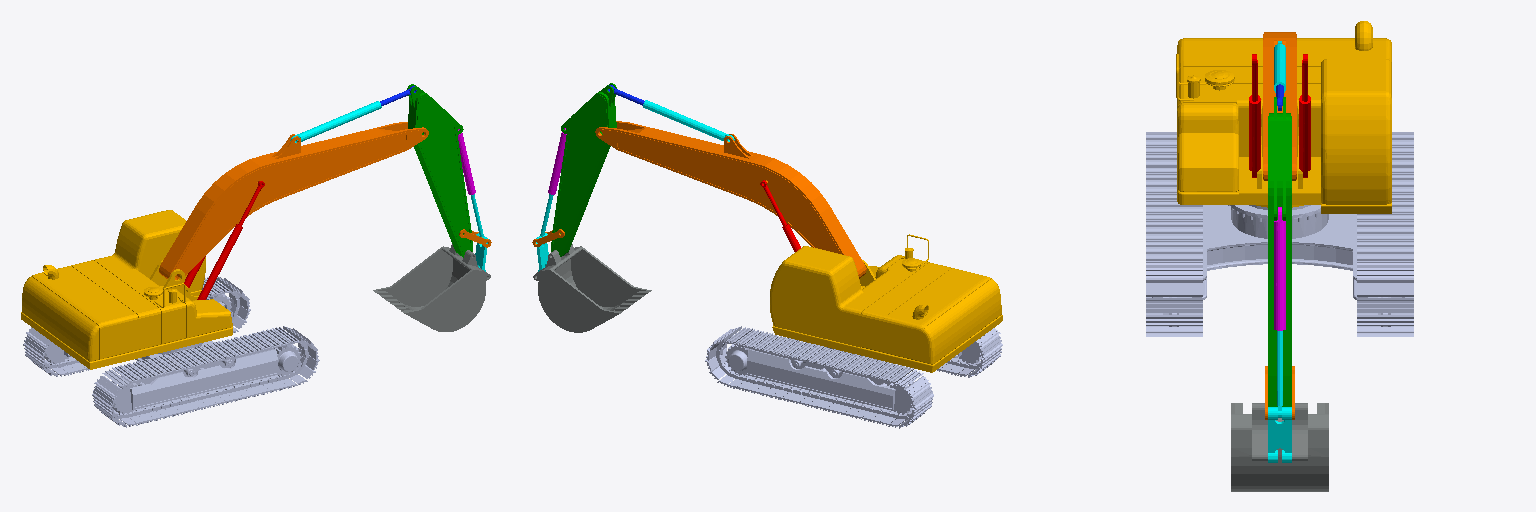
The robot description file, URDF, robot "pudong":
<?xml version="1.0" encoding="utf-8"?>

<robot name="pudong">

  <!--  A base_footprint link and joint for KDL solver  -->
  <link name="base_footprint" />
  <joint name="base_footprint_joint" type="fixed">
     <parent link="base_footprint"/>
     <child link="base_link"/>
   </joint>

  <!-- base_link      -->
  <link
    name="base_link">
    <inertial>
      <origin
        xyz="-0.018171 -0.0017721 0.19446"
        rpy="0 0 0" />
      <mass
        value="2592.7" />
      <inertia
        ixx="1069.7"
        ixy="0.085575"
        ixz="-2.7007"
        iyy="689.73"
        iyz="0.014558"
        izz="1627.6" />
    </inertial>
    <visual>
      <origin
        xyz="0 0 0"
        rpy="0 0 0" />
      <geometry>
        <mesh
          filename="package://pudong/meshes/base_link.STL" />
      </geometry>
      <material
        name="">
        <color
          rgba="0.79216 0.81961 0.93333 1" />
      </material>
    </visual>
    <collision>
      <origin
        xyz="0 0 0"
        rpy="0 0 0" />
      <geometry>
        <mesh
          filename="package://pudong/meshes/base_link.STL" />
      </geometry>
    </collision>
  </link>

  <!--  cheshen  -->
  <link
    name="cheshen">
    <inertial>
      <origin
        xyz="-0.83549 0.21412 0.58331"
        rpy="0 0 0" />
      <mass
        value="7793.2" />
      <inertia
        ixx="5729.6"
        ixy="-1496.5"
        ixz="-549.49"
        iyy="8160.3"
        iyz="-525.9"
        izz="11992" />
    </inertial>
    <visual>
      <origin
        xyz="0 0 0"
        rpy="0 0 0" />
      <geometry>
        <mesh
          filename="package://pudong/meshes/cheshen.STL" />
      </geometry>
      <material
        name="">
        <color
          rgba="1 0.74902 0 1" />
      </material>
    </visual>
    <collision>
      <origin
        xyz="0 0 0"
        rpy="0 0 0" />
      <geometry>
        <mesh
          filename="package://pudong/meshes/cheshen.STL" />
      </geometry>
    </collision>
  </link>

  <!--  joint: base_to_cheshen  -->
  <joint
    name="base_to_cheshen"
    type="continuous">
    <origin
      xyz="0 0 0.72"
      rpy="0 0 0" />
    <parent
      link="base_link" />
    <child
      link="cheshen" />
    <axis
      xyz="0 0 -1" />
  </joint>

  <!--  pjjq03      -->
  <link name="pjjq03">
    <inertial>
      <origin
        xyz="2.2911 3.7748E-15 1.2825"
        rpy="0 0 0" />
      <mass
        value="1440.8" />
      <inertia
        ixx="321.25"
        ixy="5.2749E-13"
        ixz="-661.98"
        iyy="3009.3"
        iyz="1.7997E-13"
        izz="2727.5" />
    </inertial>
    <visual>
      <origin
        xyz="0 0 0"
        rpy="0 0 0" />
      <geometry>
        <mesh
          filename="package://pudong/meshes/pjjq03.STL" />
      </geometry>
      <material
        name="">
        <color
          rgba="1 0.49804 0 1" />
      </material>
    </visual>
    <collision>
      <origin
        xyz="0 0 0"
        rpy="0 0 0" />
      <geometry>
        <mesh
          filename="package://pudong/meshes/pjjq03.STL" />
      </geometry>
    </collision>
  </link>

  <!--   joint: cheshen_to_03     -->
  <joint
    name="cheshen_to_03"
    type="revolute">
    <origin
      xyz="-0.009 0 1.0372"
      rpy="0 0 0" />
    <parent
      link="cheshen" />
    <child
      link="pjjq03" />
    <axis
      xyz="0 1 0" />
    <limit
      lower="-0.9"
      upper="0.3"
      effort="0"
      velocity="1" />
  </joint>

  <!-- link  yg1220_1_1   -->
  <link
    name="yg1220_1_1">
    <inertial>
      <origin
        xyz="6.3838E-15 6.6613E-15 0.76602"
        rpy="0 0 0" />
      <mass
        value="12.766" />
      <inertia
        ixx="3.6006"
        ixy="-2.0103E-17"
        ixz="8.5001E-16"
        iyy="3.6026"
        iyz="1.1691E-16"
        izz="0.051461" />
    </inertial>
    <visual>
      <origin
        xyz="0 0 0"
        rpy="0 0 0" />
      <geometry>
        <mesh
          filename="package://pudong/meshes/yg1220_1_1.STL" />
      </geometry>
      <material
        name="">
        <color
          rgba="1 0 0 1" />
      </material>
    </visual>
    <collision>
      <origin
        xyz="0 0 0"
        rpy="0 0 0" />
      <geometry>
        <mesh
          filename="package://pudong/meshes/yg1220_1_1.STL" />
      </geometry>
    </collision>
  </link>

  <!--  joint: cheshen_to_1220_1  -->
  <joint
    name="cheshen_to_1220_1"
    type="revolute">
    <origin
      xyz="0.461 0.31 0.44"
      rpy="0 0.55538 0" />
    <parent
      link="cheshen" />
    <child
      link="yg1220_1_1" />
    <axis
      xyz="0 1 0" />
    <limit
      lower="-0.35"
      upper="0.5"
      effort="0"
      velocity="1" />
  </joint>

  <!--    yg1220_1_2  -->
  <link
    name="yg1220_1_2">
    <inertial>
      <origin
        xyz="5.8287E-15 3.1086E-15 0.75378"
        rpy="0 0 0" />
      <mass
        value="8.7504" />
      <inertia
        ixx="2.1109"
        ixy="6.2989E-19"
        ixz="4.0658E-16"
        iyy="2.1113"
        iyz="6.698E-15"
        izz="0.0084603" />
    </inertial>
    <visual>
      <origin
        xyz="0 0 0"
        rpy="0 0 0" />
      <geometry>
        <mesh
          filename="package://pudong/meshes/yg1220_1_2.STL" />
      </geometry>
      <material
        name="">
        <color
          rgba="1 0 0 1" />
      </material>
    </visual>
    <collision>
      <origin
        xyz="0 0 0"
        rpy="0 0 0" />
      <geometry>
        <mesh
          filename="package://pudong/meshes/yg1220_1_2.STL" />
      </geometry>
    </collision>
  </link>

  <!--  joint: 1220_1_to_03   
  <joint
    name="1220_1_to_03"
    type="revolute">
    <origin
      xyz="1.8012 0.31 1.548"
      rpy="0 0 0" />
    <parent
      link="pjjq03" />
    <child
      link="yg1220_1_2" />
    <axis
      xyz="0 1 0" />
    <limit
      lower="-0.35"
      upper="0.5"
      effort="0"
      velocity="1" />
  </joint>-->

  <!--  joint: 1220_1  -->
  <joint
    name="1220_1"
    type="prismatic">
    <origin
      xyz="0 0 0.95471"
      rpy="0 0 0" />
    <parent
      link="yg1220_1_1" />
    <child
      link="yg1220_1_2" />
    <axis
      xyz="0 0 -1" />
    <limit
      lower="-0.42"
      upper="0.8"
      effort="0"
      velocity="1" />
  </joint>

  <!--    yg1220_2_1  -->
  <link
    name="yg1220_2_1">
    <inertial>
      <origin
        xyz="4.885E-15 4.6629E-15 0.76602"
        rpy="0 0 0" />
      <mass
        value="12.766" />
      <inertia
        ixx="3.6006"
        ixy="-2.0289E-17"
        ixz="7.1818E-16"
        iyy="3.6026"
        iyz="2.2196E-15"
        izz="0.051461" />
    </inertial>
    <visual>
      <origin
        xyz="0 0 0"
        rpy="0 0 0" />
      <geometry>
        <mesh
          filename="package://pudong/meshes/yg1220_2_1.STL" />
      </geometry>
      <material
        name="">
        <color
          rgba="1 0 0 1" />
      </material>
    </visual>
    <collision>
      <origin
        xyz="0 0 0"
        rpy="0 0 0" />
      <geometry>
        <mesh
          filename="package://pudong/meshes/yg1220_2_1.STL" />
      </geometry>
    </collision>
  </link>

  <!-- joint: cheshen_to_1220_2  -->
  <joint
    name="cheshen_to_1220_2"
    type="revolute">
    <origin
      xyz="0.461 -0.31 0.44"
      rpy="0 0.55538 0" />
    <parent
      link="cheshen" />
    <child
      link="yg1220_2_1" />
    <axis
      xyz="0 1 0" />
    <limit
      lower="-0.35"
      upper="0.5"
      effort="0"
      velocity="1" />
    <mimic
      joint="cheshen_to_1220_1"
      multiplier="1"
      offset="0" />
  </joint>

  <!--  yg1220_2_2    -->
  <link
    name="yg1220_2_2">
    <inertial>
      <origin
        xyz="4.2744E-15 3.3307E-15 0.75378"
        rpy="0 0 0" />
      <mass
        value="8.7504" />
      <inertia
        ixx="2.1109"
        ixy="-5.507E-18"
        ixz="-1.5266E-16"
        iyy="2.1113"
        iyz="6.6736E-15"
        izz="0.0084603" />
    </inertial>
    <visual>
      <origin
        xyz="0 0 0"
        rpy="0 0 0" />
      <geometry>
        <mesh
          filename="package://pudong/meshes/yg1220_2_2.STL" />
      </geometry>
      <material
        name="">
        <color
          rgba="1 0 0 1" />
      </material>
    </visual>
    <collision>
      <origin
        xyz="0 0 0"
        rpy="0 0 0" />
      <geometry>
        <mesh
          filename="package://pudong/meshes/yg1220_2_2.STL" />
      </geometry>
    </collision>
  </link>

  <!--  joint: 1220_2   -->
  <joint
    name="1220_2"
    type="prismatic">
    <origin
      xyz="0 0 0.95471"
      rpy="0 0 0" />
    <parent
      link="yg1220_2_1" />
    <child
      link="yg1220_2_2" />
    <axis
      xyz="0 0 -1" />
    <limit
      lower="-0.42"
      upper="0.8"
      effort="0"
      velocity="1" />
    <mimic
      joint="1220_1"
      multiplier="1"
      offset="0" />
  </joint>

  <!--    yg1480     -->
  <link
    name="yg1480">
    <inertial>
      <origin
        xyz="2.2204E-15 1.0436E-14 0.88447"
        rpy="0 0 0" />
      <mass
        value="15.576" />
      <inertia
        ixx="5.7795"
        ixy="3.8423E-17"
        ixz="3.773E-16"
        iyy="5.782"
        iyz="-3.0915E-17"
        izz="0.073091" />
    </inertial>
    <visual>
      <origin
        xyz="0 0 0"
        rpy="0 0 0" />
      <geometry>
        <mesh
          filename="package://pudong/meshes/yg1480.STL" />
      </geometry>
      <material
        name="">
        <color
          rgba="0 1 1 1" />
      </material>
    </visual>
    <collision>
      <origin
        xyz="0 0 0"
        rpy="0 0 0" />
      <geometry>
        <mesh
          filename="package://pudong/meshes/yg1480.STL" />
      </geometry>
    </collision>
  </link>

  <!-- joint: 03_to_1480   -->
  <joint
    name="03_to_1480"
    type="revolute">
    <origin
      xyz="2.7108 0 2.1303"
      rpy="0 1.4036 0" />
    <parent
      link="pjjq03" />
    <child
      link="yg1480" />
    <axis
      xyz="0 -1 0" />
    <limit
      lower="-0.2"
      upper="0.2"
      effort="0"
      velocity="1" />
  </joint>

  <!--  yg1480_2    -->
  <link
    name="yg1480_2">
    <inertial>
      <origin
        xyz="3.9968E-15 9.1038E-15 0.91721"
        rpy="0 0 0" />
      <mass
        value="15.423" />
      <inertia
        ixx="4.9237"
        ixy="4.5322E-18"
        ixz="4.8182E-16"
        iyy="4.9253"
        iyz="-1.1532E-16"
        izz="0.021379" />
    </inertial>
    <visual>
      <origin
        xyz="0 0 0"
        rpy="0 0 0" />
      <geometry>
        <mesh
          filename="package://pudong/meshes/yg1480_2.STL" />
      </geometry>
      <material
        name="">
        <color
          rgba="0.086275 0.21961 1 1" />
      </material>
    </visual>
    <collision>
      <origin
        xyz="0 0 0"
        rpy="0 0 0" />
      <geometry>
        <mesh
          filename="package://pudong/meshes/yg1480_2.STL" />
      </geometry>
    </collision>
  </link>

  <!-- joint: 1480_1_to_2   -->
  <joint
    name="1480_1_to_2"
    type="prismatic">
    <origin
      xyz="0 0 0.7811"
      rpy="0 0 0" />
    <parent
      link="yg1480" />
    <child
      link="yg1480_2" />
    <axis
      xyz="0 0 -1" />
    <limit
      lower="-0.88"
      upper="0.6"
      effort="0"
      velocity="1" />
  </joint>

  <!--  pjjq04    -->
  <link
    name="pjjq04">
    <inertial>
      <origin
        xyz="0.9223 6.2172E-15 0.24134"
        rpy="0 0 0" />
      <mass
        value="600.4" />
      <inertia
        ixx="26.656"
        ixy="-1.7876E-14"
        ixz="15.684"
        iyy="564.47"
        iyz="4.8971E-14"
        izz="545.68" />
    </inertial>
    <visual>
      <origin
        xyz="0 0 0"
        rpy="0 0 0" />
      <geometry>
        <mesh
          filename="package://pudong/meshes/pjjq04.STL" />
      </geometry>
      <material
        name="">
        <color
          rgba="0 0.66667 0 1" />
      </material>
    </visual>
    <collision>
      <origin
        xyz="0 0 0"
        rpy="0 0 0" />
      <geometry>
        <mesh
          filename="package://pudong/meshes/pjjq04.STL" />
      </geometry>
    </collision>
  </link>

  <!--  joint: 03_to_04   -->
  <joint
    name="03_to_04"
    type="revolute">
    <origin
      xyz="5.4177 0 1.706"
      rpy="0 1.2726 0" />
    <parent
      link="pjjq03" />
    <child
      link="pjjq04" />
    <axis
      xyz="0 1 0" />
    <limit
      lower="-0.8"
      upper="1.0"
      effort="0"
      velocity="1" />
  </joint>

  <!--  yg1050    -->>
  <link
    name="yg1050">
    <inertial>
      <origin
        xyz="8.9706E-14 7.7716E-15 0.68295"
        rpy="0 0 0" />
      <mass
        value="11.684" />
      <inertia
        ixx="2.6743"
        ixy="3.8052E-18"
        ixz="-4.0853E-16"
        iyy="2.6763"
        iyz="-1.2435E-16"
        izz="0.046473" />
    </inertial>
    <visual>
      <origin
        xyz="0 0 0"
        rpy="0 0 0" />
      <geometry>
        <mesh
          filename="package://pudong/meshes/yg1050.STL" />
      </geometry>
      <material
        name="">
        <color
          rgba="1 0 1 1" />
      </material>
    </visual>
    <collision>
      <origin
        xyz="0 0 0"
        rpy="0 0 0" />
      <geometry>
        <mesh
          filename="package://pudong/meshes/yg1050.STL" />
      </geometry>
    </collision>
  </link>

  <!-- joint:  04_to_1050  -->
  <joint
    name="04_to_1050"
    type="revolute">
    <origin
      xyz="0.40628 0 0.76931"
      rpy="-3.1416 1.4945 -3.1416" />
    <parent
      link="pjjq04" />
    <child
      link="yg1050" />
    <axis
      xyz="0 -1 0" />
    <limit
      lower="-0.1"
      upper="0.3"
      effort="0"
      velocity="1" />
  </joint>

  <!-- yg1050_2   -->
  <link
    name="yg1050_2">
    <inertial>
      <origin
        xyz="8.9706E-14 4.6629E-15 0.69365"
        rpy="0 0 0" />
      <mass
        value="8.1381" />
      <inertia
        ixx="1.6884"
        ixy="-2.173E-18"
        ixz="1.1427E-16"
        iyy="1.6889"
        iyz="-1.8072E-15"
        izz="0.0079769" />
    </inertial>
    <visual>
      <origin
        xyz="0 0 0"
        rpy="0 0 0" />
      <geometry>
        <mesh
          filename="package://pudong/meshes/yg1050_2.STL" />
      </geometry>
      <material
        name="">
        <color
          rgba="0 1 1 1" />
      </material>
    </visual>
    <collision>
      <origin
        xyz="0 0 0"
        rpy="0 0 0" />
      <geometry>
        <mesh
          filename="package://pudong/meshes/yg1050_2.STL" />
      </geometry>
    </collision>
  </link>

  <!--  joint: 1050_1_to_2   -->
  <joint
    name="1050_1_to_2"
    type="prismatic">
    <origin
      xyz="0 0 1.0701"
      rpy="0 0 0" />
    <parent
      link="yg1050" />
    <child
      link="yg1050_2" />
    <axis
      xyz="0 0 -1" />
    <limit
      lower="-0.1"
      upper="0.95"
      effort="0"
      velocity="1" />
  </joint>

  <!--  pjjq05_1    -->
  <link
    name="pjjq05_1">
    <inertial>
      <origin
        xyz="-4.4409E-15 3.5527E-15 0.305"
        rpy="0 0 0" />
      <mass
        value="3.6933" />
      <inertia
        ixx="0.17974"
        ixy="-1.2585E-18"
        ixz="1.8865E-17"
        iyy="0.18482"
        iyz="-2.112E-17"
        izz="0.0060665" />
    </inertial>
    <visual>
      <origin
        xyz="0 0 0"
        rpy="0 0 0" />
      <geometry>
        <mesh
          filename="package://pudong/meshes/pjjq05_1.STL" />
      </geometry>
      <material
        name="">
        <color
          rgba="1 0.49804 0 1" />
      </material>
    </visual>
    <collision>
      <origin
        xyz="0 0 0"
        rpy="0 0 0" />
      <geometry>
        <mesh
          filename="package://pudong/meshes/pjjq05_1.STL" />
      </geometry>
    </collision>
  </link>

  <!--  joint:  04_to_05_1  -->
  <joint
    name="04_to_05_1"
    type="revolute">
    <origin
      xyz="2.4617 -0.17 0.17367"
      rpy="0 0.84777 0" />
    <parent
      link="pjjq04" />
    <child
      link="pjjq05_1" />
    <axis
      xyz="0 1 0" />
    <limit
      lower="-1.7"
      upper="0.5"
      effort="0"
      velocity="1" />
  </joint>

  <!--  pjjq05_2   -->
  <link
    name="pjjq05_2">
    <inertial>
      <origin
        xyz="-4.885E-15 4.4409E-15 0.305"
        rpy="0 0 0" />
      <mass
        value="3.6933" />
      <inertia
        ixx="0.17974"
        ixy="1.9711E-18"
        ixz="5.5077E-17"
        iyy="0.18482"
        iyz="1.2286E-17"
        izz="0.0060665" />
    </inertial>
    <visual>
      <origin
        xyz="0 0 0"
        rpy="0 0 0" />
      <geometry>
        <mesh
          filename="package://pudong/meshes/pjjq05_2.STL" />
      </geometry>
      <material
        name="">
        <color
          rgba="1 0.49804 0 1" />
      </material>
    </visual>
    <collision>
      <origin
        xyz="0 0 0"
        rpy="0 0 0" />
      <geometry>
        <mesh
          filename="package://pudong/meshes/pjjq05_2.STL" />
      </geometry>
    </collision>
  </link>

  <!-- joint: 04_to_05_2  -->
  <joint
    name="04_to_05_2"
    type="revolute">
    <origin
      xyz="2.4617 0.17 0.17367"
      rpy="0 0.84777 0" />
    <parent
      link="pjjq04" />
    <child
      link="pjjq05_2" />
    <axis
      xyz="0 1 0" />
    <limit
      lower="-1.7"
      upper="0.5"
      effort="0"
      velocity="1" />
    <mimic
      joint="04_to_05_1"
      multiplier="1"
      offset="0" />
  </joint>

  <!--  chandou   -->
  <link
    name="chandou">
    <inertial>
      <origin
        xyz="0.72017 3.3307E-15 0.569"
        rpy="0 0 0" />
      <mass
        value="359.5" />
      <inertia
        ixx="94.627"
        ixy="4.1355E-14"
        ixz="-4.7801"
        iyy="138.37"
        iyz="7.1336E-14"
        izz="169.06" />
    </inertial>
    <visual>
      <origin
        xyz="0 0 0"
        rpy="0 0 0" />
      <geometry>
        <mesh
          filename="package://pudong/meshes/chandou.STL" />
      </geometry>
      <material
        name="">
        <color
          rgba="0.52941 0.54902 0.54902 1" />
      </material>
    </visual>
    <collision>
      <origin
        xyz="0 0 0"
        rpy="0 0 0" />
      <geometry>
        <mesh
          filename="package://pudong/meshes/chandou.STL" />
      </geometry>
    </collision>
  </link>

  <!-- joint: 04_to_chandou  -->
  <joint
    name="04_to_chandou"
    type="revolute">
    <origin
      xyz="2.9111 0 0.15097"
      rpy="0 1.4717 0" />
    <parent
      link="pjjq04" />
    <child
      link="chandou" />
    <axis
      xyz="0 1 0" />
    <limit
      lower="-2.1"
      upper="0.6"
      effort="0"
      velocity="1" />
  </joint>

  <!--  pjjq06   -->
  <link
    name="pjjq06">
    <inertial>
      <origin
        xyz="-8.8818E-16 0 -0.314"
        rpy="0 0 0" />
      <mass
        value="16.973" />
      <inertia
        ixx="1.2029"
        ixy="1.7203E-16"
        ixz="-8.3267E-17"
        iyy="1.0753"
        iyz="5.09E-17"
        izz="0.1691" />
    </inertial>
    <visual>
      <origin
        xyz="0 0 0"
        rpy="0 0 0" />
      <geometry>
        <mesh
          filename="package://pudong/meshes/pjjq06.STL" />
      </geometry>
      <material
        name="">
        <color
          rgba="0 1 1 1" />
      </material>
    </visual>
    <collision>
      <origin
        xyz="0 0 0"
        rpy="0 0 0" />
      <geometry>
        <mesh
          filename="package://pudong/meshes/pjjq06.STL" />
      </geometry>
    </collision>
  </link>

  <!-- joint: chandou_to_06  -->
  <joint
    name="chandou_to_06"
    type="revolute">
    <origin
      xyz="-0.10419 0 0.59088"
      rpy="0 0.53327 0" />
    <parent
      link="chandou" />
    <child
      link="pjjq06" />
    <axis
      xyz="0 -1 0" />
    <limit
      lower="-2.0"
      upper="0.3"
      effort="0"
      velocity="1" />
  </joint>

</robot>

--- What the picture shows (computed from the rendered views, not written in the file) ---
3 views of the same robot in one strip: view 1: azimuth 30°, elevation 25°; view 2: azimuth 150°, elevation 25°; view 3: azimuth 270°, elevation 25° (orthographic).
Robot: pudong — 17 links, 16 joints (10 revolute, 1 continuous, 4 prismatic, 1 fixed); root link base_footprint; default pose: all joints at 0.
Links seen in each view (by area): view 1: cheshen, base_link, pjjq03, chandou, pjjq04, yg1480, yg1220_2_1; view 2: cheshen, base_link, pjjq03, chandou, pjjq04, yg1480; view 3: cheshen, base_link, chandou, pjjq04, pjjq03, yg1050, pjjq06, yg1220_1_1, yg1220_2_1.
Boxes of the visible links, <box> form: cheshen: <box>21,210,232,369</box>; base_link: <box>23,277,319,427</box>; pjjq03: <box>159,122,428,279</box>; chandou: <box>373,244,490,331</box>; pjjq04: <box>407,84,472,257</box>; yg1480: <box>290,101,381,142</box>; yg1220_2_1: <box>197,224,242,299</box>; cheshen: <box>770,234,1002,372</box>; base_link: <box>705,326,1002,428</box>; pjjq03: <box>595,121,866,278</box>; chandou: <box>533,244,651,332</box>; pjjq04: <box>551,83,616,256</box>; yg1480: <box>643,100,734,141</box>; cheshen: <box>1176,21,1391,213</box>; base_link: <box>1146,132,1413,336</box>; chandou: <box>1231,403,1328,491</box>; pjjq04: <box>1268,97,1291,406</box>; pjjq03: <box>1263,32,1296,180</box>; yg1050: <box>1274,207,1285,330</box>; pjjq06: <box>1268,407,1291,462</box>; yg1220_1_1: <box>1299,95,1310,177</box>; yg1220_2_1: <box>1249,95,1260,177</box>.
Size in the robot's own frame: 9.42 by 3.3 by 5.02 metres.
Meshes: 16 distinct files referenced, 16 mesh visuals loaded (16 binary STL).
